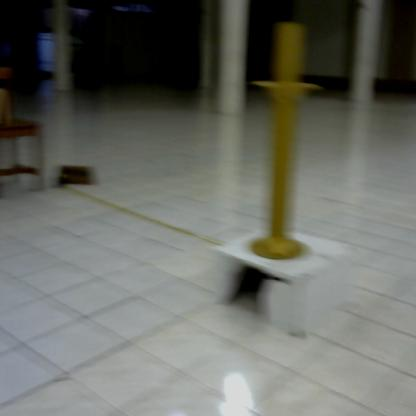pole: (240, 16, 328, 273)
